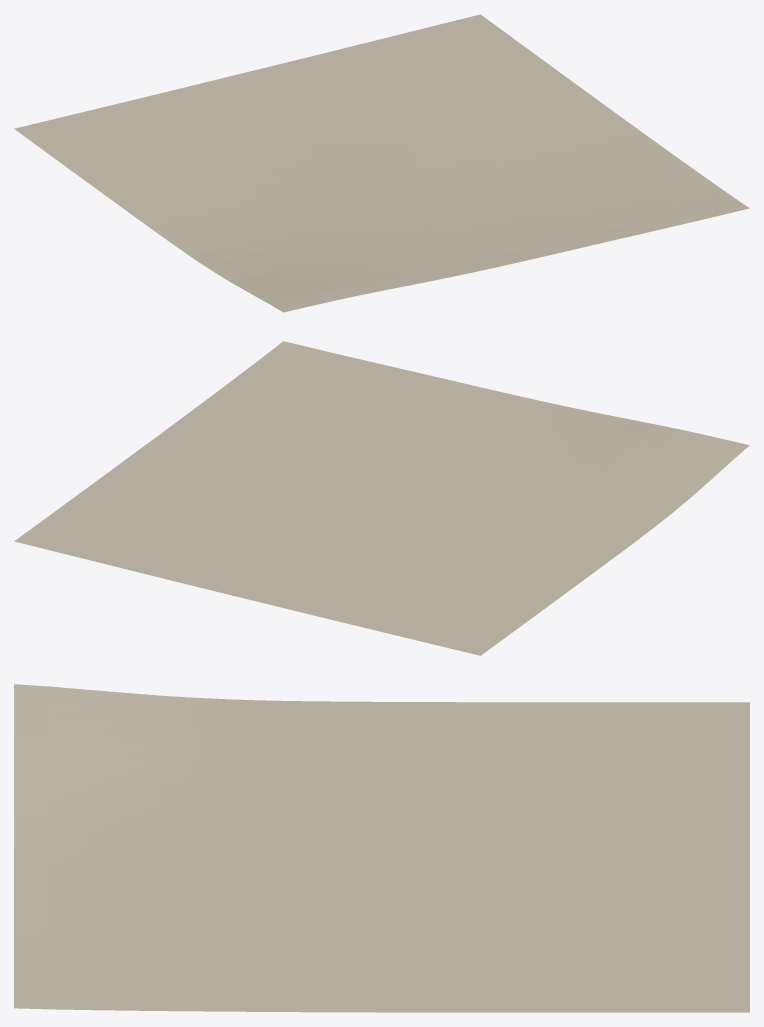
File: bolak_-15_-15.glb
3 views of the same model, one above another, from view 1: azimuth 30°, elevation 25°; view 2: azimuth 150°, elevation 25°; view 3: azimuth 270°, elevation 25° (orthographic). The views are drawn at different scales.
Visible parts, largest first — view 1: Yer_Tuproq-col; view 2: Yer_Tuproq-col; view 3: Yer_Tuproq-col.
Boxes of the visible parts, x1,y1,x2,y2 form: Yer_Tuproq-col: (14, 14, 749, 312); Yer_Tuproq-col: (14, 341, 749, 655); Yer_Tuproq-col: (14, 684, 749, 1012).
Bounding box in the file's own units: 400 × 11.22 × 400.
